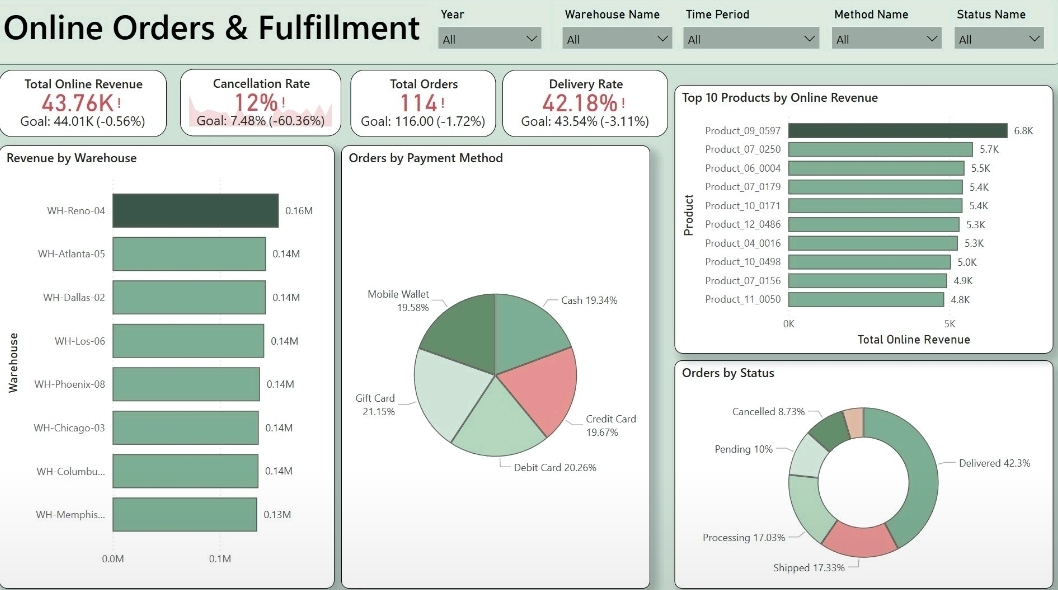

Layout of this report page (visuals, bound fields, positions):
{"tool":"powerbi","page":{"name":"Online Orders & Fulfillment","canvas":[1280,720],"ordinal":2},"visuals":[{"type":"shape","box":[0,0,1280,80],"z":0},{"type":"textbox","title":"Online Orders & Fulfillment","box":[15.6,5.6,512.2,50],"z":1000},{"type":"kpi","title":"Total Online Revenue","fields":{"Indicator":["measure.Total Online Revenue"],"TrendLine":["gold dim_date.Month_Year"],"Goal":["measure.Target Online Revenue"]},"box":[16,86,200,80],"z":2000},{"type":"kpi","title":"Total Orders","fields":{"Indicator":["measure.Total Orders"],"TrendLine":["gold dim_date.Month_Year"],"Goal":["measure.Target Total Orders"]},"box":[435,86,173,80],"z":3000},{"type":"kpi","title":"Delivery Rate","fields":{"Indicator":["measure.Delivery Rate %"],"TrendLine":["gold dim_date.Month_Year"],"Goal":["measure.Target Delivery Rate"]},"box":[616,86,197,80],"z":4000},{"type":"kpi","title":"Cancellation Rate","fields":{"Indicator":["measure.Cancellation Rate %"],"TrendLine":["gold dim_date.Month_Year"],"Goal":["measure.Target Cancellation Rate"]},"box":[232,85,192,80],"z":5000},{"type":"donutChart","title":"Orders by Status","fields":{"Y":["measure.Total Orders"],"Category":["gold dim_order_status.Status_Name"]},"box":[821,432,451,272],"z":6000},{"type":"clusteredBarChart","title":"Revenue by Warehouse","fields":{"Category":["gold dim_warehouse.Warehouse_Name"],"Y":["measure.Total Online Revenue"]},"box":[16,176,400,528],"z":7000},{"type":"pieChart","title":"Orders by Payment Method","fields":{"Y":["measure.Total Online Revenue"],"Series":["gold dim_payment_method.Method_Name"]},"box":[424,176,368,528],"z":8000},{"type":"clusteredBarChart","title":"Top 10 Products by Online Revenue","fields":{"Category":["gold dim_product.Product_Name"],"Y":["measure.Total Online Revenue"]},"box":[821,104,451,320],"z":9000},{"type":"slicer","fields":{"Values":["Time Calculation.Time Period"]},"box":[821.1,5.6,183.3,62.2],"z":10000},{"type":"slicer","fields":{"Values":["gold dim_order_status.Status_Name"]},"box":[1144,6,128,62],"z":11000},{"type":"slicer","fields":{"Values":["gold dim_payment_method.Method_Name"]},"box":[997.8,5.6,152.2,62.2],"z":12000},{"type":"slicer","fields":{"Values":["gold dim_warehouse.Warehouse_Name"]},"box":[676.7,5.6,152.2,62.2],"z":13000},{"type":"slicer","fields":{"Values":["gold dim_date.Year"]},"box":[528.9,5.6,144.4,62.2],"z":14000}]}

Visuals, with their boxes in screenshot pixels (x1, y1, x2, y2), scaled from the page's 1280x720 canvas onto the 1058x590 screenshot:
shape: bbox=(0, 0, 1057, 66)
"Online Orders & Fulfillment" textbox: bbox=(13, 5, 436, 46)
"Total Online Revenue" kpi: bbox=(13, 70, 179, 136)
"Total Orders" kpi: bbox=(360, 70, 503, 136)
"Delivery Rate" kpi: bbox=(509, 70, 672, 136)
"Cancellation Rate" kpi: bbox=(192, 70, 350, 135)
"Orders by Status" donutChart: bbox=(679, 354, 1051, 577)
"Revenue by Warehouse" clusteredBarChart: bbox=(13, 144, 344, 577)
"Orders by Payment Method" pieChart: bbox=(350, 144, 655, 577)
"Top 10 Products by Online Revenue" clusteredBarChart: bbox=(679, 85, 1051, 347)
slicer - Time Calculation.Time Period: bbox=(679, 5, 830, 56)
slicer - gold dim_order_status.Status_Name: bbox=(946, 5, 1051, 56)
slicer - gold dim_payment_method.Method_Name: bbox=(825, 5, 951, 56)
slicer - gold dim_warehouse.Warehouse_Name: bbox=(559, 5, 685, 56)
slicer - gold dim_date.Year: bbox=(437, 5, 557, 56)
